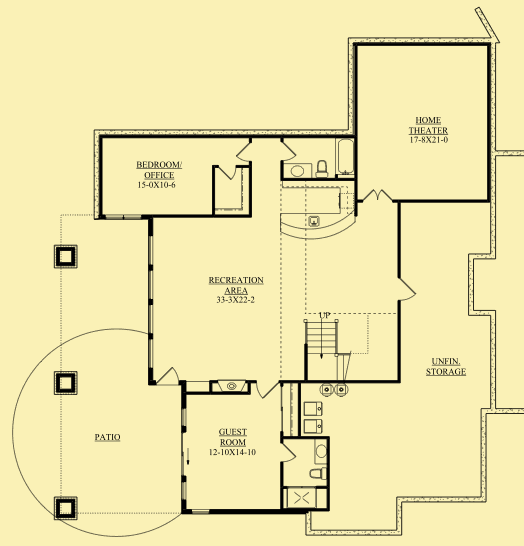door: (392, 272, 418, 306), (360, 184, 393, 208), (253, 376, 281, 401), (155, 364, 184, 387), (273, 439, 297, 466), (277, 138, 301, 164), (233, 140, 256, 165), (214, 161, 240, 182)
large sink: (311, 157, 335, 181), (305, 464, 327, 483)
small sink: (281, 161, 313, 180), (314, 439, 330, 465)
stairs: (301, 311, 353, 382)
tub: (333, 135, 357, 181)
windows: (144, 233, 158, 371), (102, 212, 147, 225), (177, 475, 191, 503), (188, 506, 215, 519), (179, 403, 189, 429)
